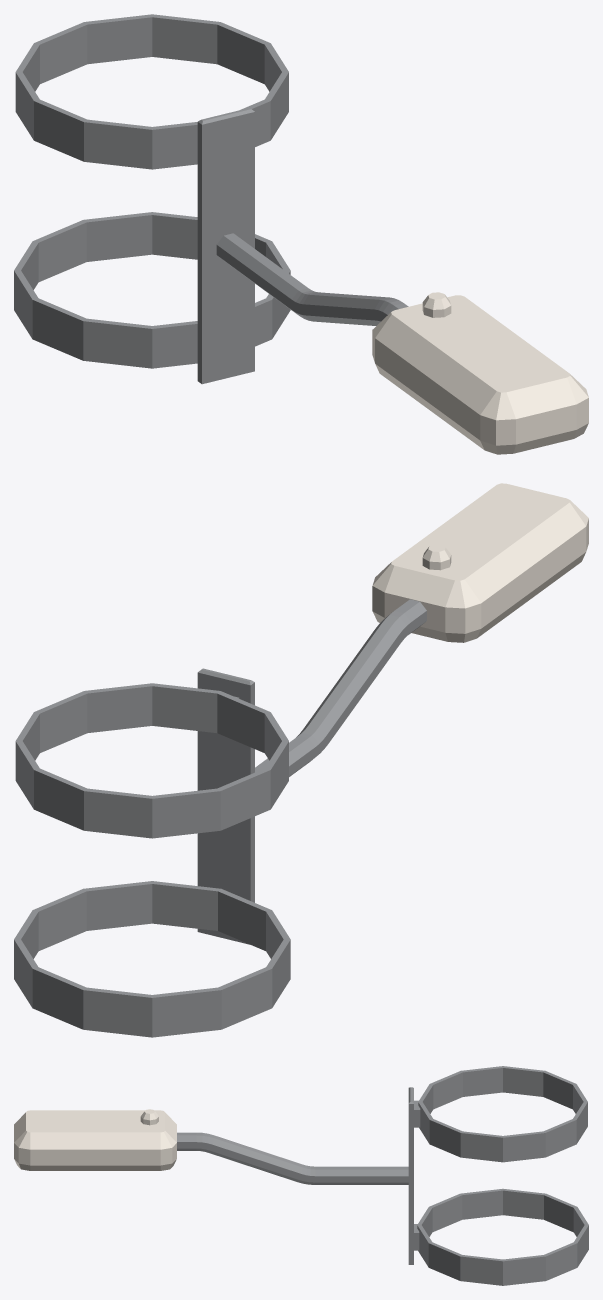
The model's file is SM_Street_SecurityLightClamp_01.gltf.
3 renders of one model, top to bottom at view 1: azimuth 30°, elevation 25°; view 2: azimuth 150°, elevation 25°; view 3: azimuth 270°, elevation 25°, orthographic. The views are drawn at different scales.
Visible parts, largest first — view 1: SM_Street_SecurityLightClamp_01; view 2: SM_Street_SecurityLightClamp_01; view 3: SM_Street_SecurityLightClamp_01.
Boxes of the visible parts, x1,y1,x2,y2 form: SM_Street_SecurityLightClamp_01: (14,14,588,454); SM_Street_SecurityLightClamp_01: (14,483,588,1037); SM_Street_SecurityLightClamp_01: (14,1066,588,1285).
Bounding box in the file's own units: 0.316 × 0.33 × 1.06.
Materials: 1 (1 with a texture image).
